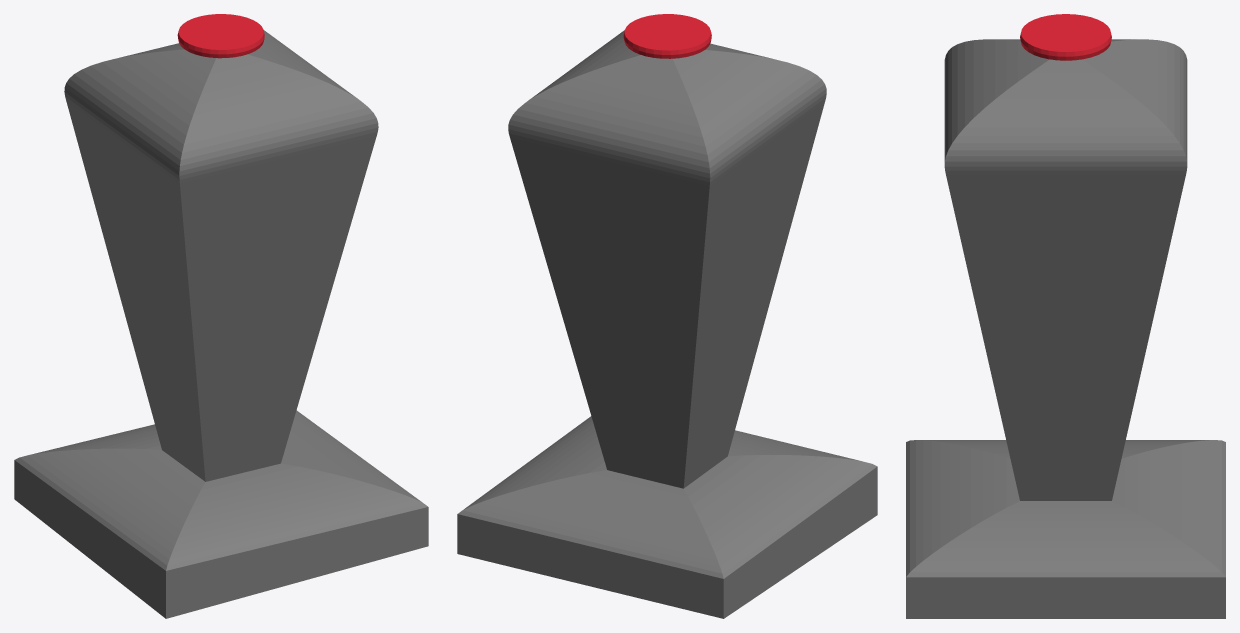
The model's file is Boton.fbx.
3 views of the same model, side by side, from view 1: azimuth 30°, elevation 25°; view 2: azimuth 150°, elevation 25°; view 3: azimuth 270°, elevation 25° (orthographic). The views are drawn at different scales.
Visible parts, largest first — view 1: Cubo; view 2: Cubo; view 3: Cubo.
Boxes of the visible parts, x1,y1,x2,y2 form: Cubo: (14, 14, 428, 618); Cubo: (457, 14, 877, 618); Cubo: (906, 14, 1225, 618).
Size of the model in its own units: 125 by 227 by 125.
